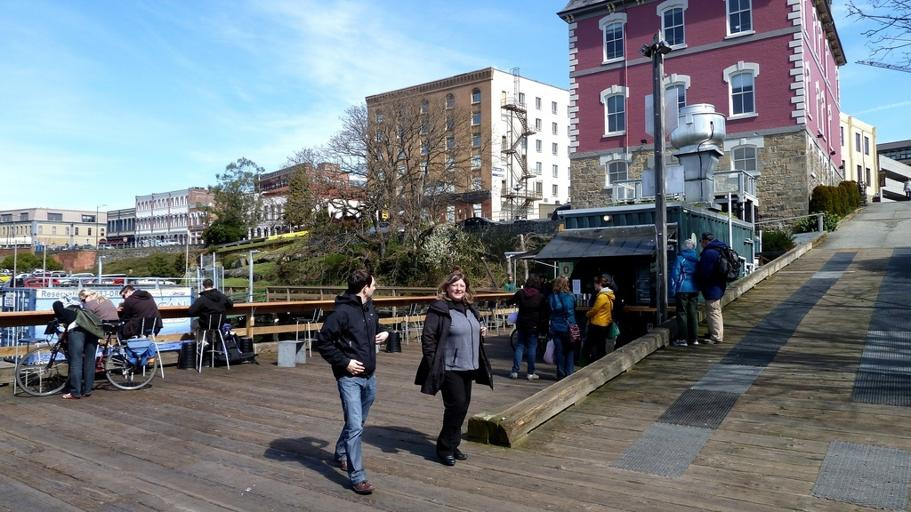non-vehicle: (14, 293, 159, 396), (509, 327, 535, 354)
